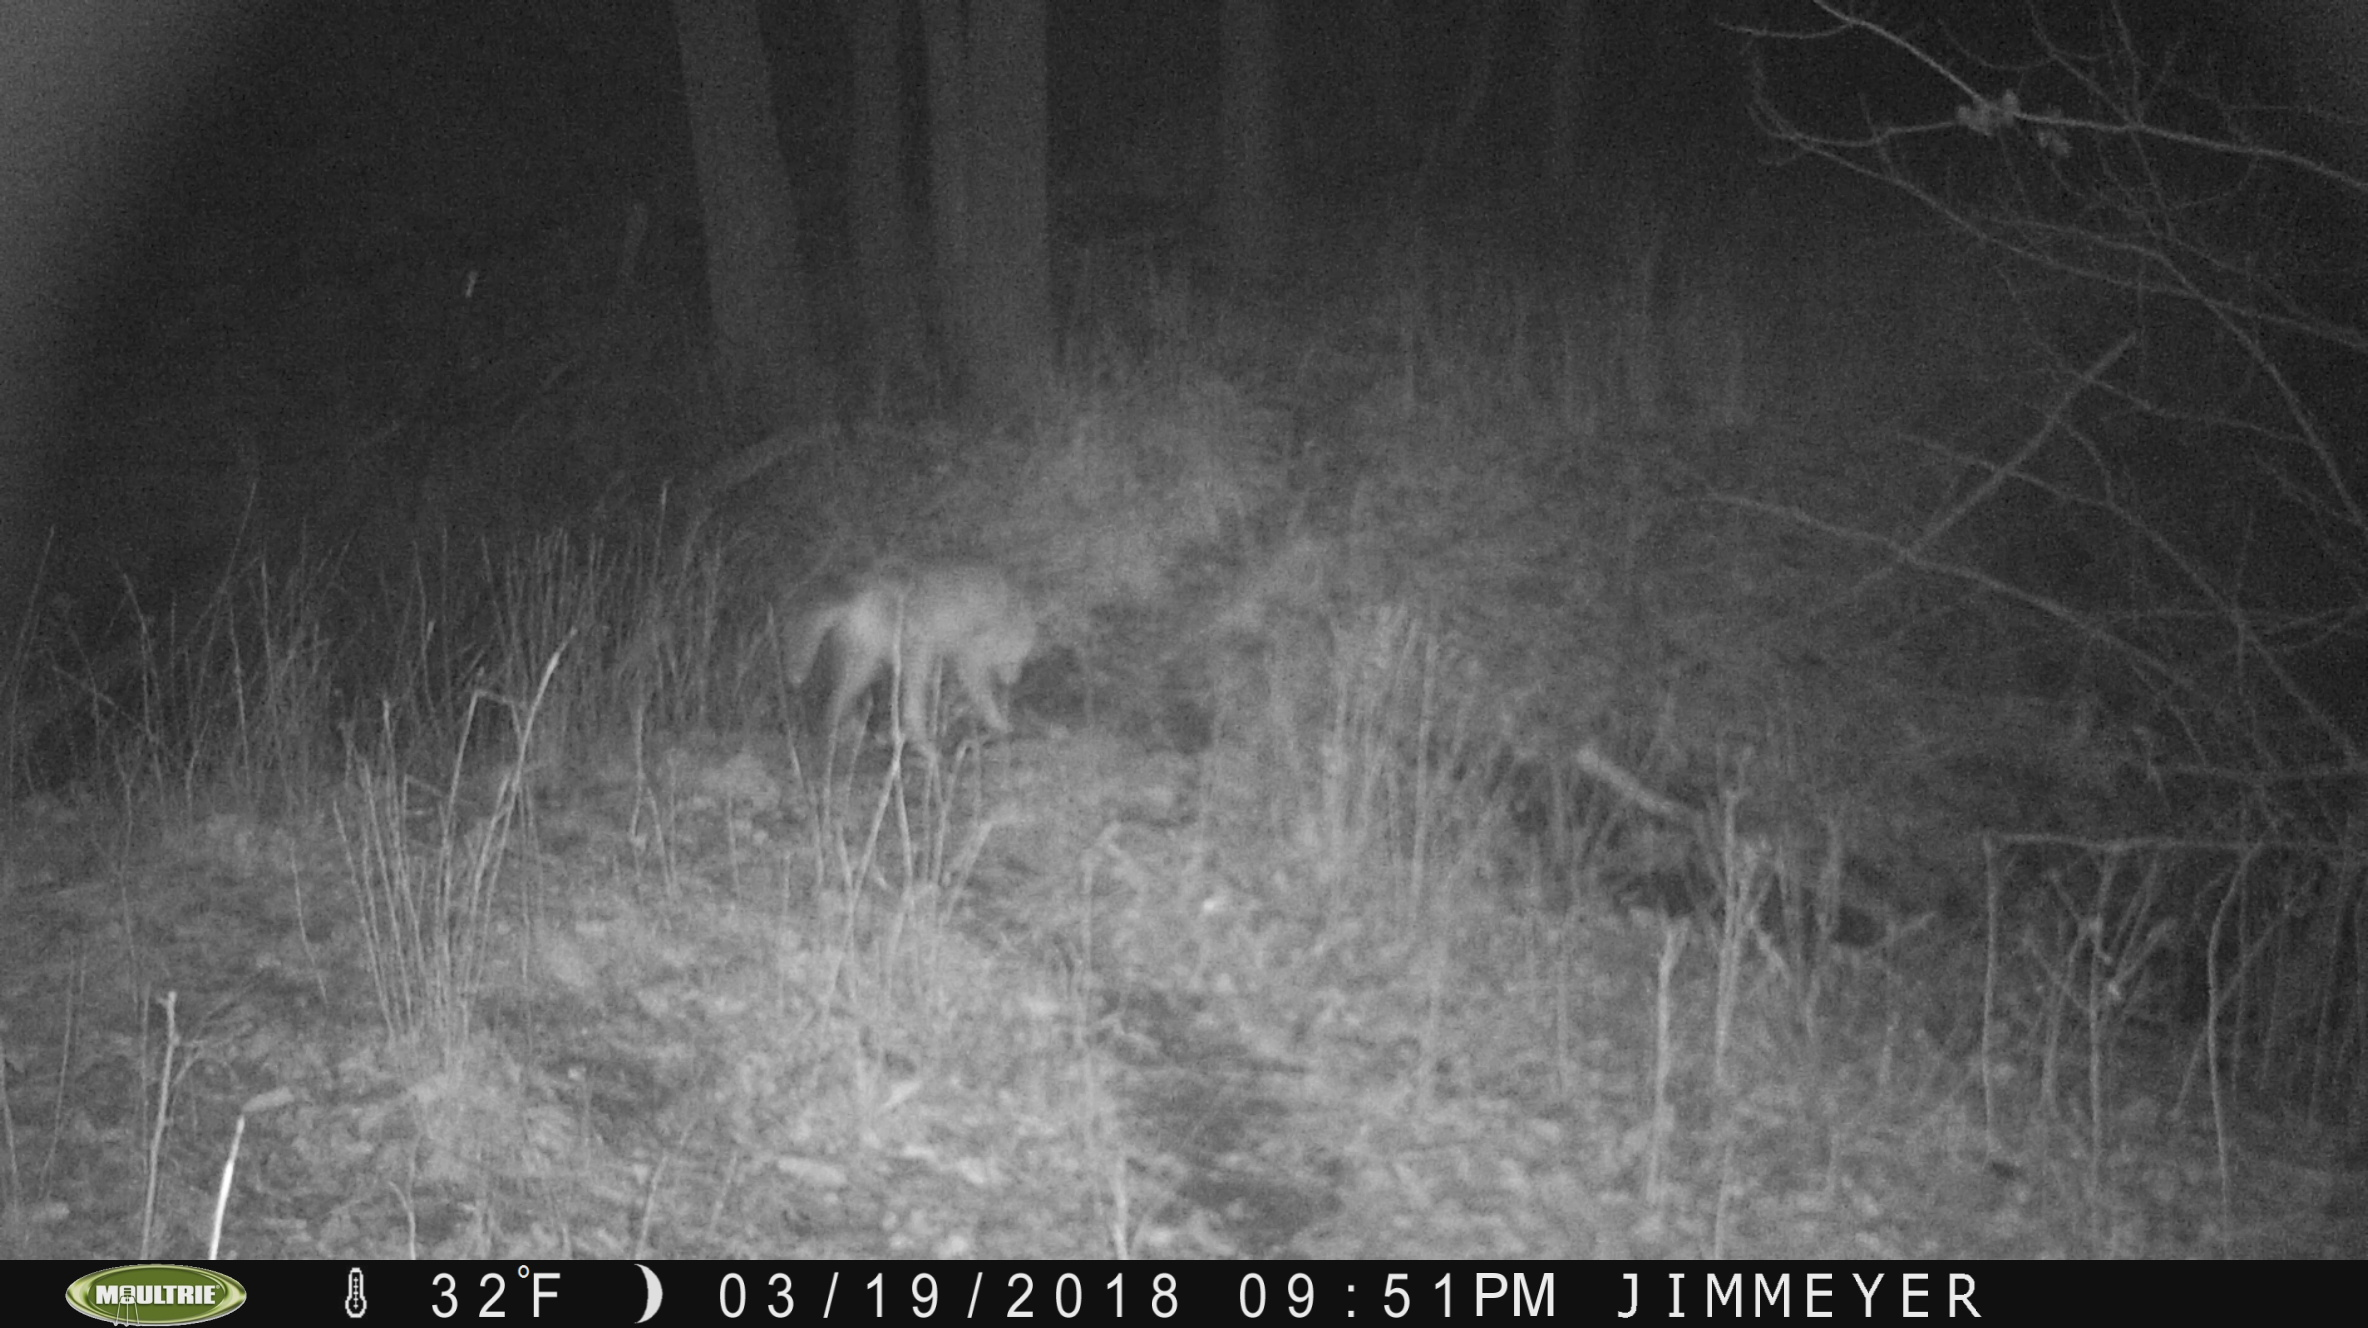Coyote: (777, 546, 1060, 766)
